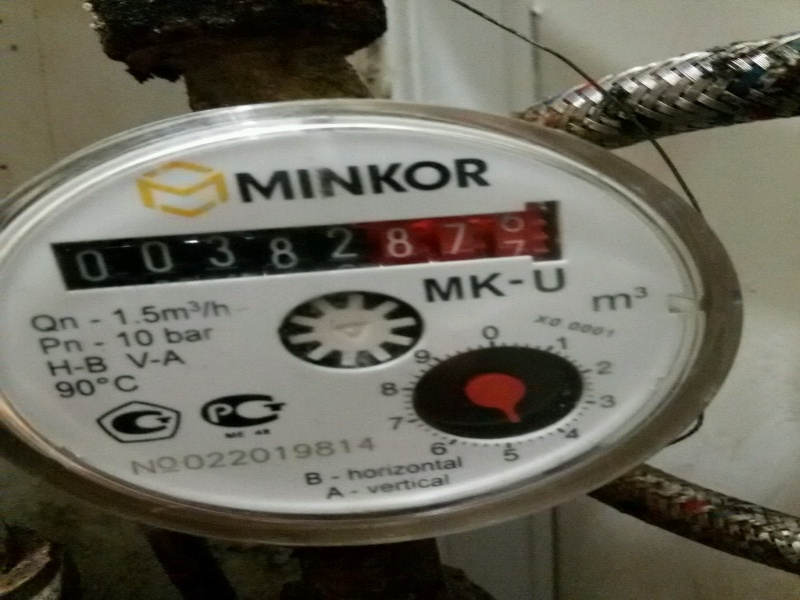dial: (30, 219, 539, 270)
